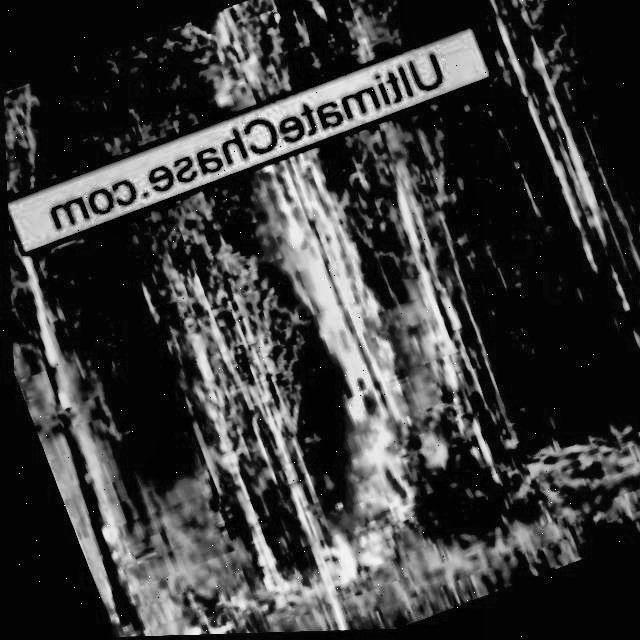Fire: (249, 154, 414, 452), (271, 451, 444, 613), (189, 13, 262, 118)
